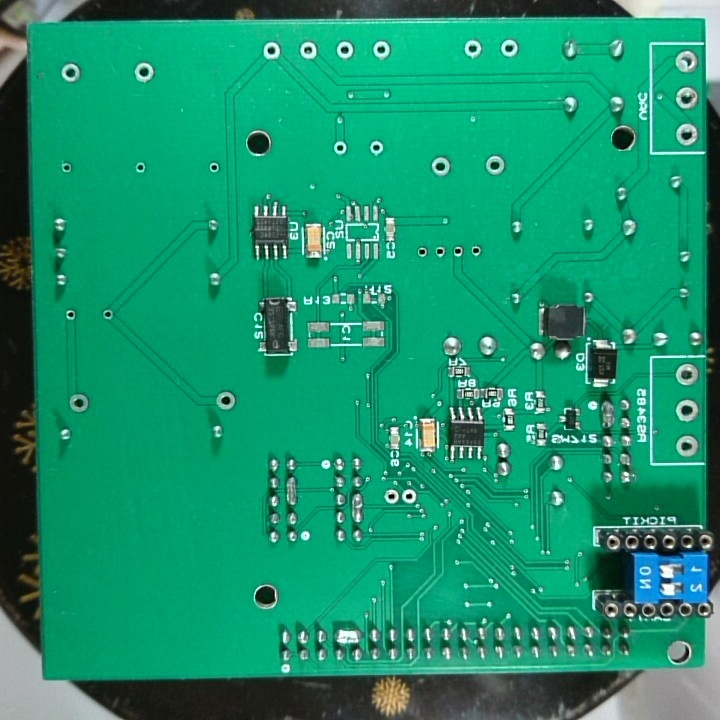F: (674, 81, 701, 114), (673, 395, 700, 426), (673, 361, 701, 390), (673, 433, 702, 460), (671, 50, 699, 76), (66, 389, 91, 416), (132, 60, 157, 87), (429, 153, 454, 180), (675, 122, 700, 149), (59, 60, 84, 86), (294, 39, 320, 64), (482, 152, 507, 178), (260, 39, 284, 66), (461, 37, 485, 63), (214, 389, 238, 414), (333, 38, 357, 61), (369, 37, 392, 61), (497, 36, 522, 58), (465, 239, 486, 263), (448, 238, 466, 263), (431, 241, 450, 264), (331, 136, 351, 157), (413, 241, 431, 263), (133, 158, 152, 178), (365, 138, 385, 157), (400, 485, 418, 506), (382, 487, 399, 508), (62, 305, 78, 326), (99, 305, 117, 323), (58, 158, 75, 177), (206, 159, 224, 175)
P: (331, 623, 365, 646), (599, 399, 617, 432), (284, 472, 300, 507), (350, 489, 365, 523)
